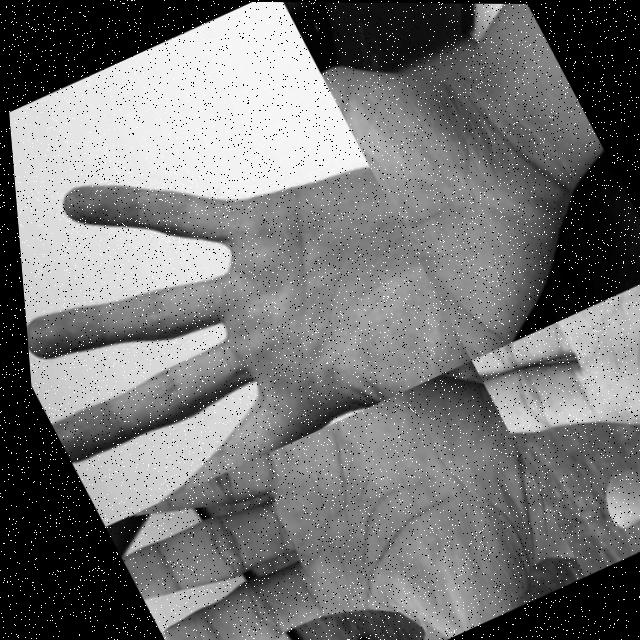hand: (5, 75, 476, 529), (85, 357, 579, 640), (312, 2, 640, 362), (458, 269, 640, 572)
